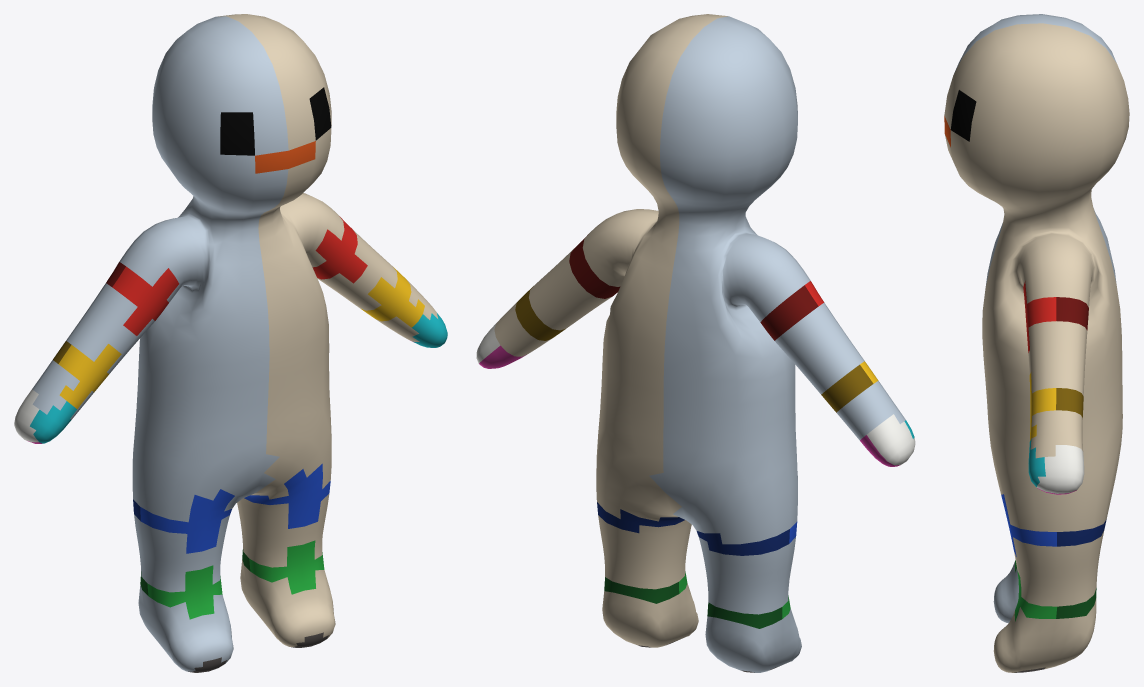
File: mannequin-animal.glb
3 views of the same model, side by side, from view 1: azimuth 30°, elevation 25°; view 2: azimuth 150°, elevation 25°; view 3: azimuth 270°, elevation 25° (orthographic). The views are drawn at different scales.
Parts seen in each view (by area): view 1: MannequinAPose; view 2: MannequinAPose; view 3: MannequinAPose.
Part boxes in pixels (x1,y1,x2,y2): MannequinAPose: (14, 14, 447, 672); MannequinAPose: (476, 14, 915, 672); MannequinAPose: (944, 14, 1129, 672).
Bounding box in the file's own units: 1.13 × 1.6 × 0.4316.
Materials: 1 (1 with a texture image).
